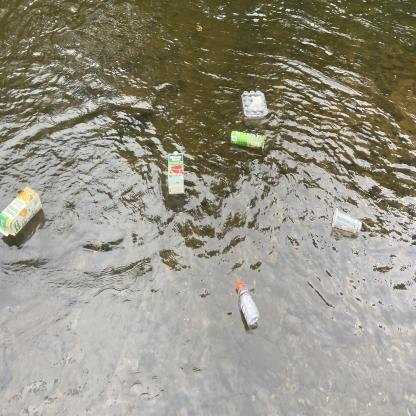trash: (0, 184, 44, 242), (234, 279, 262, 330), (239, 88, 271, 122), (328, 206, 364, 236), (228, 127, 268, 154), (165, 148, 187, 197)
